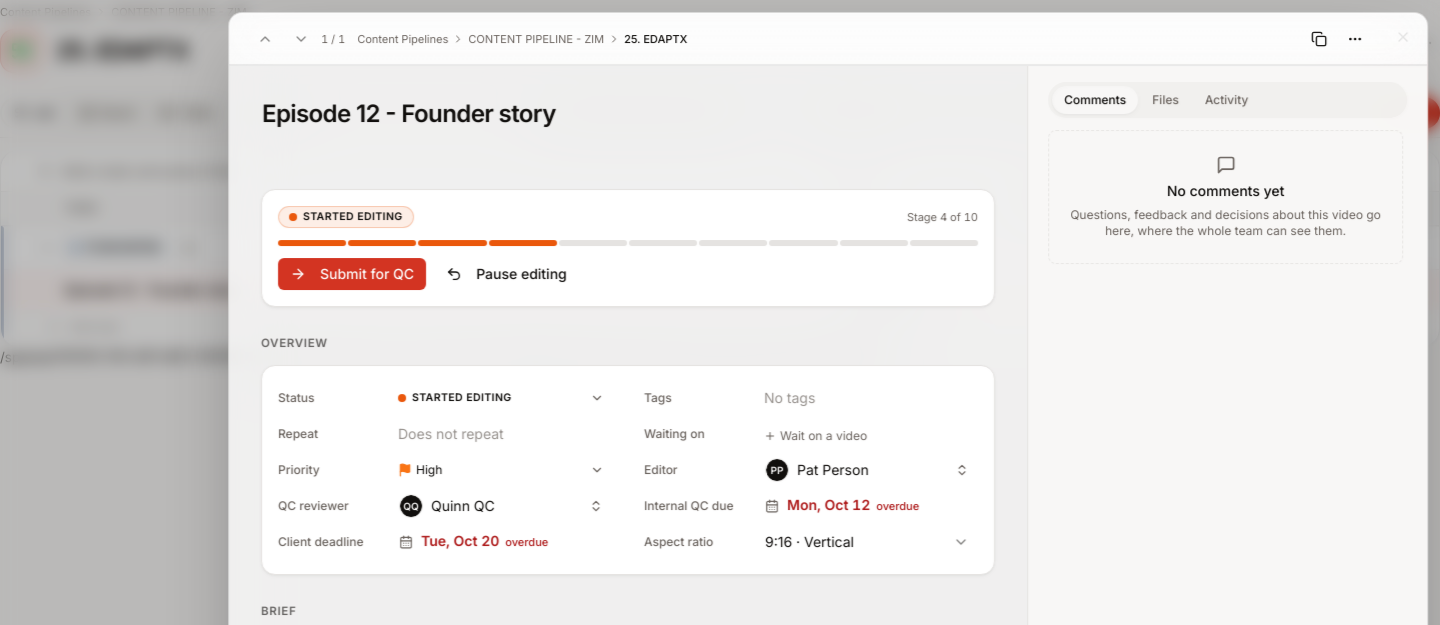
Scenario: task detail sheet: editing as a manager › refuses a blank title with a message and does not save
Clear the text box named "Task title" at (628, 113), box 253,94 -> 1003,132
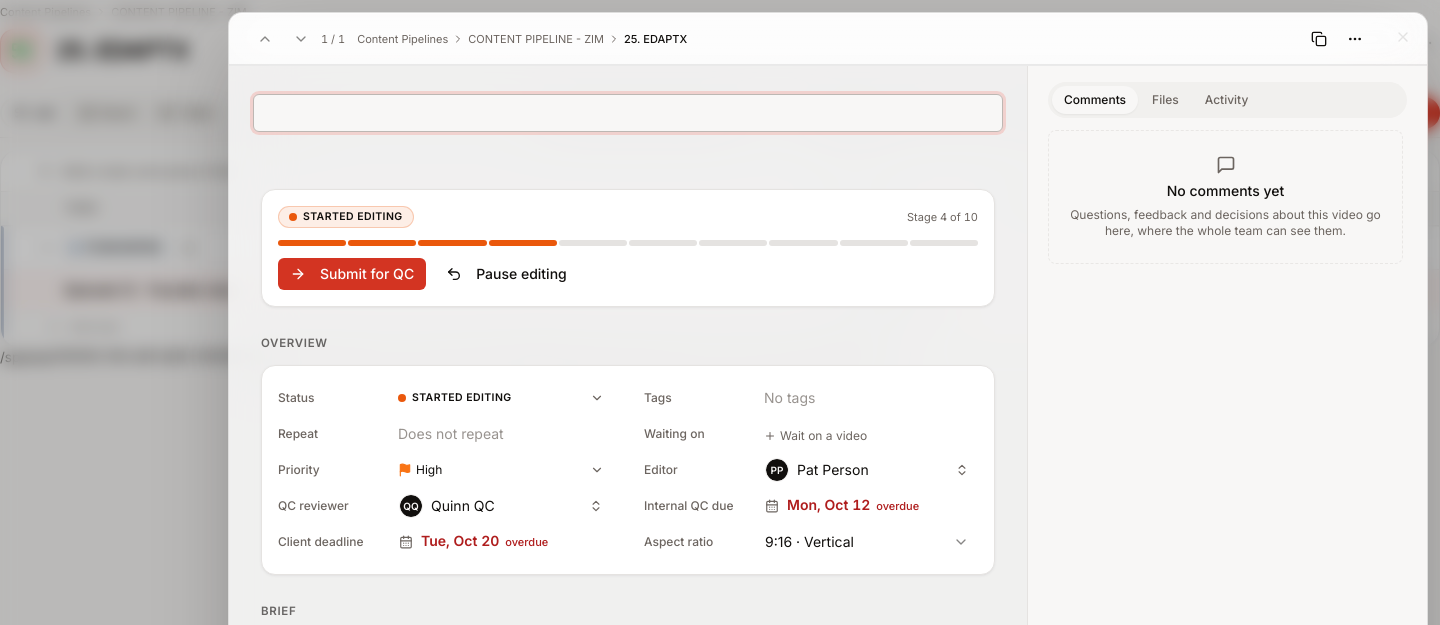
Press Tab
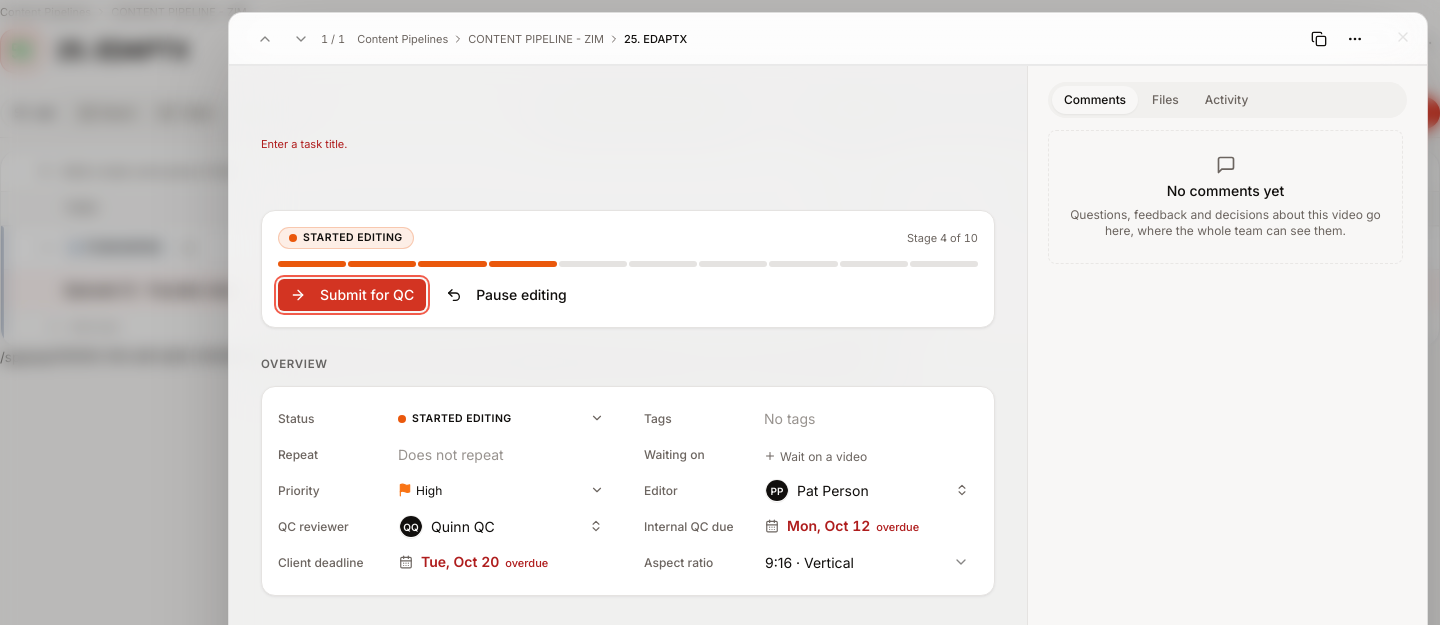
Expected: the text "Enter a task title." is shown, 261,137 -> 347,151
